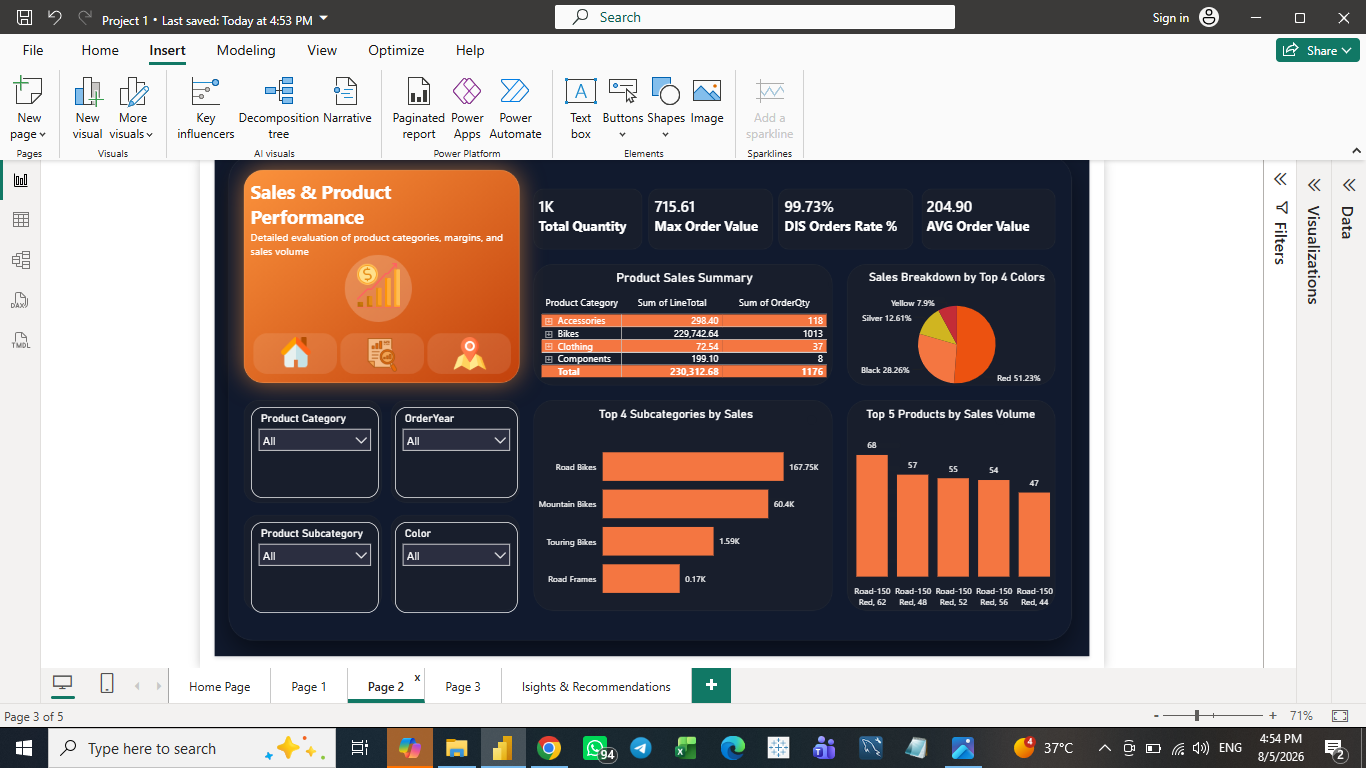

What the dashboard file says about the page in this screenshot:
{"tool":"powerbi","page":{"name":"Page 2","canvas":[1280,720],"ordinal":2},"visuals":[{"type":"image","box":[0,216.9,270.7,109.1],"z":0},{"type":"image","box":[123.3,216.9,270.7,109.1],"z":1000},{"type":"image","box":[246.6,216.9,270.7,109.1],"z":2000},{"type":"textbox","box":[66.6,21.3,374.2,124.7],"z":3000},{"type":"image","box":[123.3,110.6,259.4,134.6],"z":4000},{"type":"image","box":[215.4,252.3,86.5,48.2],"z":5000},{"type":"image","box":[78,250.9,116.2,42.5],"z":6000},{"type":"image","box":[191.3,146,123.3,63.8],"z":7000},{"type":"cardVisual","fields":{"Data":["All Measures.Total Quantity"]},"box":[450.7,24.1,223.9,107.7],"z":8000},{"type":"cardVisual","fields":{"Data":["All Measures.Max Order Value"]},"box":[615.1,24.1,223.9,107.7],"z":9000},{"type":"cardVisual","fields":{"Data":["All Measures.Discounted Orders Rate %"]},"box":[799.4,24.1,223.9,107.7],"z":10000},{"type":"cardVisual","fields":{"Data":["All Measures.Average Order Value"]},"box":[1000.6,24.1,223.9,107.7],"z":11000},{"type":"slicer","fields":{"Values":["Dim_Products.Product Category"]},"box":[72.3,350.1,181.4,129],"z":12000},{"type":"slicer","fields":{"Values":["Fact_Sales (2011_2014).OrderYear"]},"box":[276.4,350.1,174.3,129],"z":13000},{"type":"slicer","fields":{"Values":["Dim_Products.Product Subcategory"]},"box":[72.3,513.1,181.4,129],"z":14000},{"type":"slicer","fields":{"Values":["Dim_Products.Color"]},"box":[276.4,513.1,174.3,129],"z":15000},{"type":"pivotTable","title":"Product Sales Summary","fields":{"Rows":["Dim_Products.Product Category","Dim_Products.ProductName"],"Values":["Sum(Fact_Sales (2011_2014).LineTotal)","Sum(Fact_Sales (2011_2014).OrderQty)"]},"box":[479.1,155.9,415.3,170.1],"z":16000},{"type":"pieChart","title":"Sales Breakdown by Top 4 Colors","fields":{"Category":["Dim_Products.Color"],"Y":["Sum(Fact_Sales (2011_2014).LineTotal)"]},"box":[911.4,155.7,322.9,181.4],"z":17000},{"type":"barChart","title":"Top 4 Subcategories by Sales","fields":{"Category":["Dim_Products.Product Subcategory"],"Y":["Sum(Fact_Sales (2011_2014).LineTotal)"]},"box":[467.1,350,414.3,291.4],"z":18000},{"type":"columnChart","title":"Top 5 Products by Sales Volume","fields":{"Category":["Dim_Products.ProductName"],"Y":["Sum(Fact_Sales (2011_2014).OrderQty)"]},"box":[894.3,350,340,291.4],"z":19000},{"type":"image","box":[342.9,251.4,78.6,47.1],"z":20000}]}

Visuals, with their boxes on the page's 1280x720 design canvas (x1, y1, x2, y2). These are canvas units, not pixel positions in the 1366x768 screenshot, which may show the page scaled, cropped or inside an application window:
image: 0/217/271/326
image: 123/217/394/326
image: 247/217/517/326
textbox: 67/21/441/146
image: 123/111/383/245
image: 215/252/302/300
image: 78/251/194/293
image: 191/146/315/210
cardVisual - All Measures.Total Quantity: 451/24/675/132
cardVisual - All Measures.Max Order Value: 615/24/839/132
cardVisual - All Measures.Discounted Orders Rate %: 799/24/1023/132
cardVisual - All Measures.Average Order Value: 1001/24/1224/132
slicer - Dim_Products.Product Category: 72/350/254/479
slicer - Fact_Sales (2011_2014).OrderYear: 276/350/451/479
slicer - Dim_Products.Product Subcategory: 72/513/254/642
slicer - Dim_Products.Color: 276/513/451/642
"Product Sales Summary" pivotTable: 479/156/894/326
"Sales Breakdown by Top 4 Colors" pieChart: 911/156/1234/337
"Top 4 Subcategories by Sales" barChart: 467/350/881/641
"Top 5 Products by Sales Volume" columnChart: 894/350/1234/641
image: 343/251/422/298
